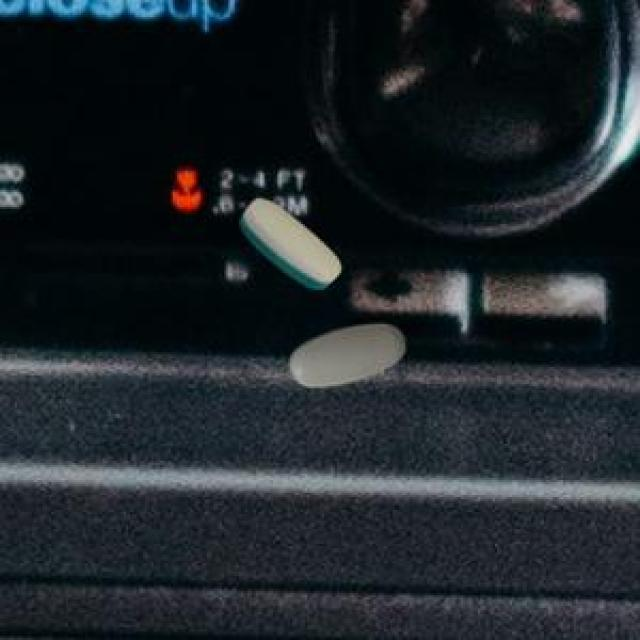Neozep: (228, 185, 352, 297), (278, 315, 408, 392)
